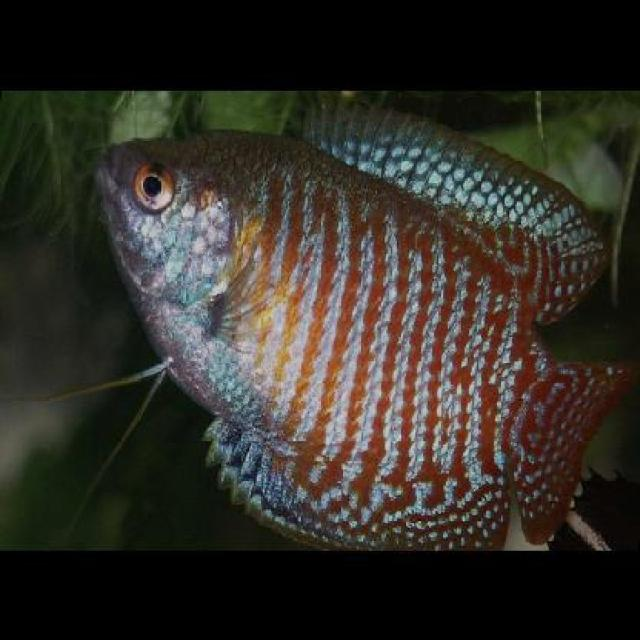Gourami: (97, 89, 626, 548)
